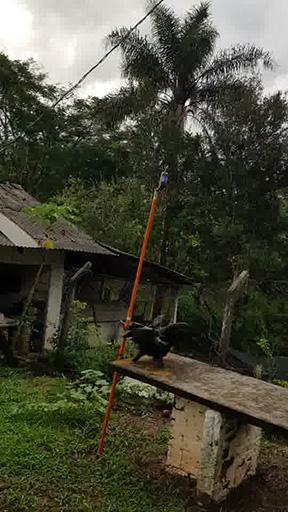Vara_Manobra: (97, 191, 159, 454)
